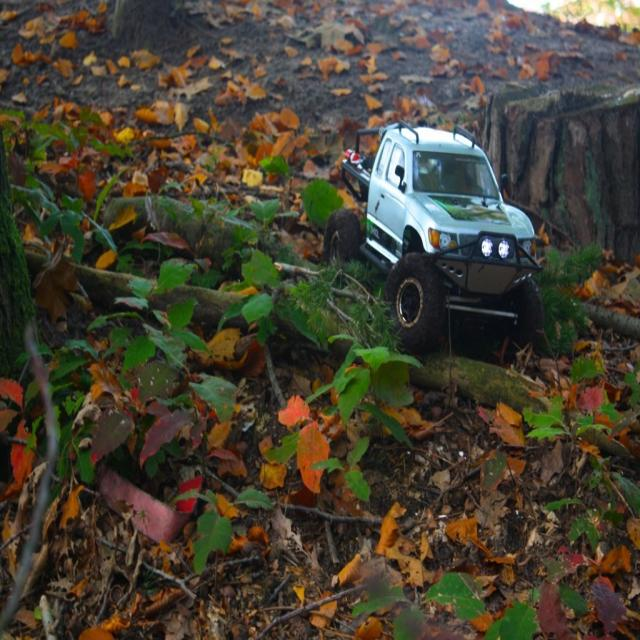car: (344, 104, 546, 352)
